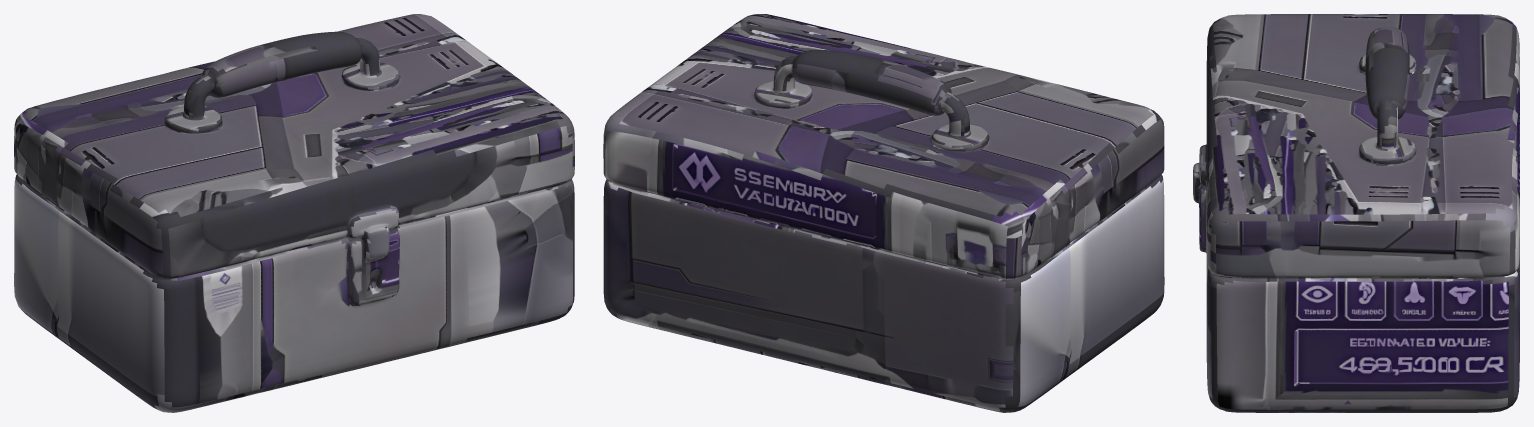
Rendered from tripo_convert_11e285c4-c54d-4495-bf73-7f854a299084.fbx.
3 renders of one model, left to right at view 1: azimuth 30°, elevation 25°; view 2: azimuth 150°, elevation 25°; view 3: azimuth 270°, elevation 25°, orthographic.
Parts seen in each view (by area): view 1: tripo_node_11e285c4.001, tripo_node_11e285c4; view 2: tripo_node_11e285c4.001, tripo_node_11e285c4; view 3: tripo_node_11e285c4.001, tripo_node_11e285c4.
Boxes of the visible parts, box(x1,y1,x2,y2) form: tripo_node_11e285c4.001: box(14, 14, 574, 278); tripo_node_11e285c4: box(14, 123, 574, 412); tripo_node_11e285c4.001: box(603, 14, 1164, 278); tripo_node_11e285c4: box(603, 175, 1164, 412); tripo_node_11e285c4.001: box(1193, 14, 1519, 277); tripo_node_11e285c4: box(1193, 72, 1519, 412).
Bounding box in the file's own units: 97.92 × 58.41 × 65.42.
